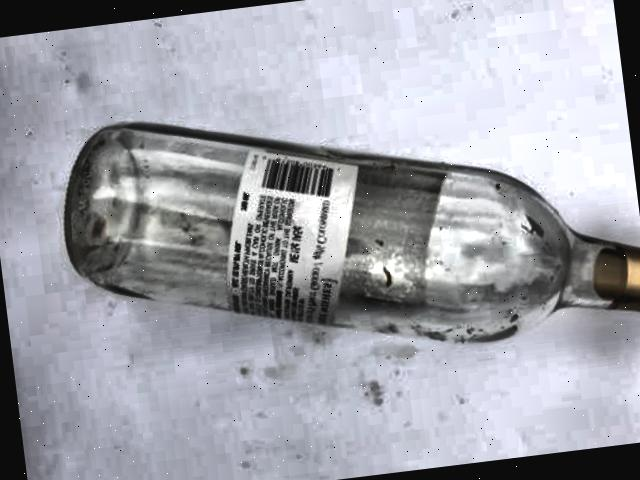Bottles: (49, 60, 640, 424)
